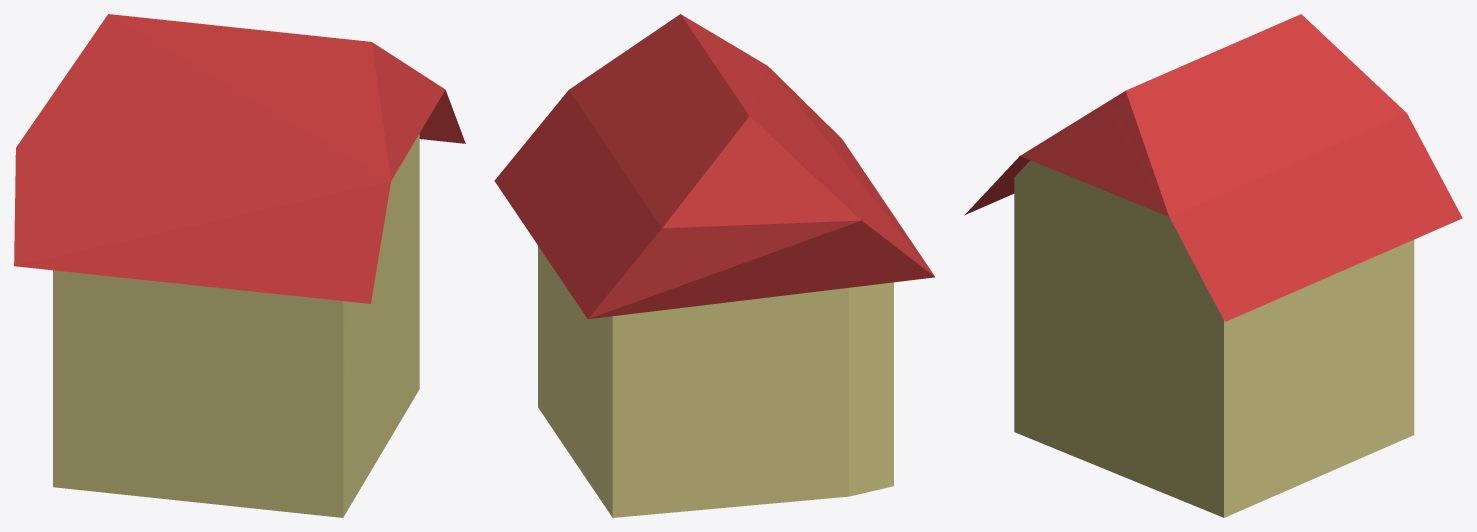
3 renders of one model, left to right at view 1: azimuth 30°, elevation 25°; view 2: azimuth 150°, elevation 25°; view 3: azimuth 270°, elevation 25°, orthographic. The views are drawn at different scales.
Visible parts, largest first — view 1: group_3, group_6, group_5; view 2: group_6, group_3, group_5, group_4; view 3: group_6, group_3, group_5.
Part boxes in pixels (x1=…): group_3: x1=14, y1=14, x2=465, y2=303; group_6: x1=53, y1=134, x2=419, y2=517; group_5: x1=14, y1=61, x2=465, y2=302; group_6: x1=538, y1=246, x2=893, y2=517; group_3: x1=494, y1=14, x2=934, y2=318; group_5: x1=494, y1=26, x2=933, y2=318; group_4: x1=588, y1=220, x2=934, y2=319; group_6: x1=1014, y1=160, x2=1414, y2=517; group_3: x1=1020, y1=14, x2=1462, y2=321; group_5: x1=964, y1=102, x2=1462, y2=321.
Bounding box in the file's own units: 14.05 × 14.07 × 11.88.
